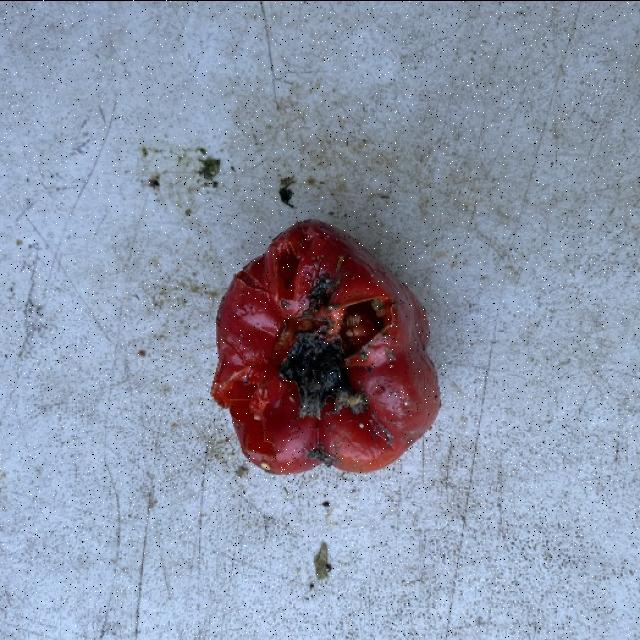organik: (218, 218, 434, 471)
